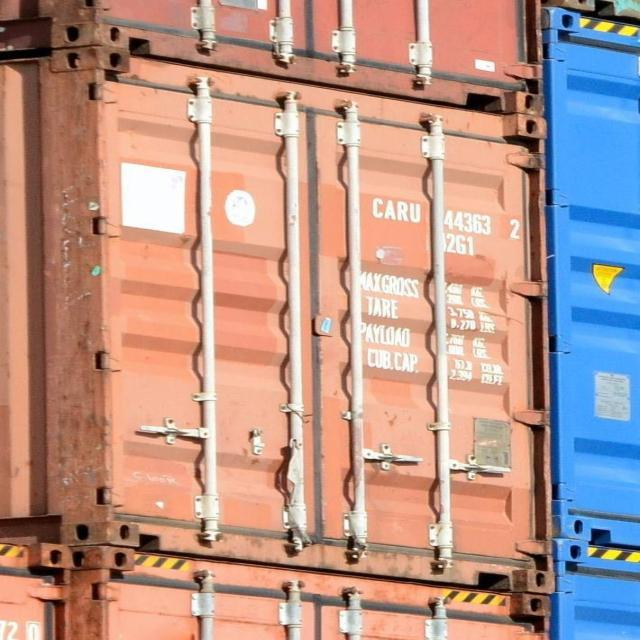ISO: (432, 236, 485, 262)
container_number: (368, 200, 526, 234)
